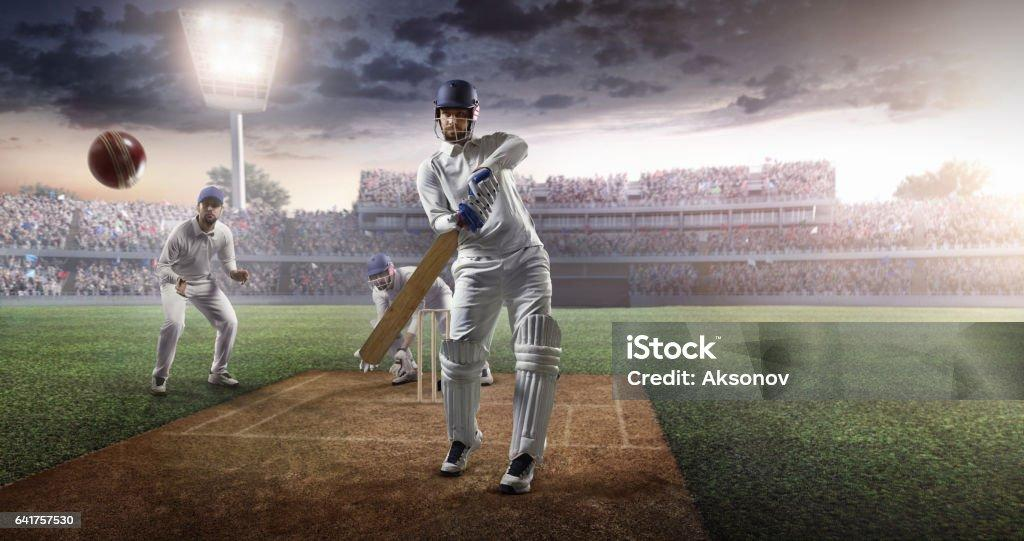batsman: (406, 60, 569, 500)
